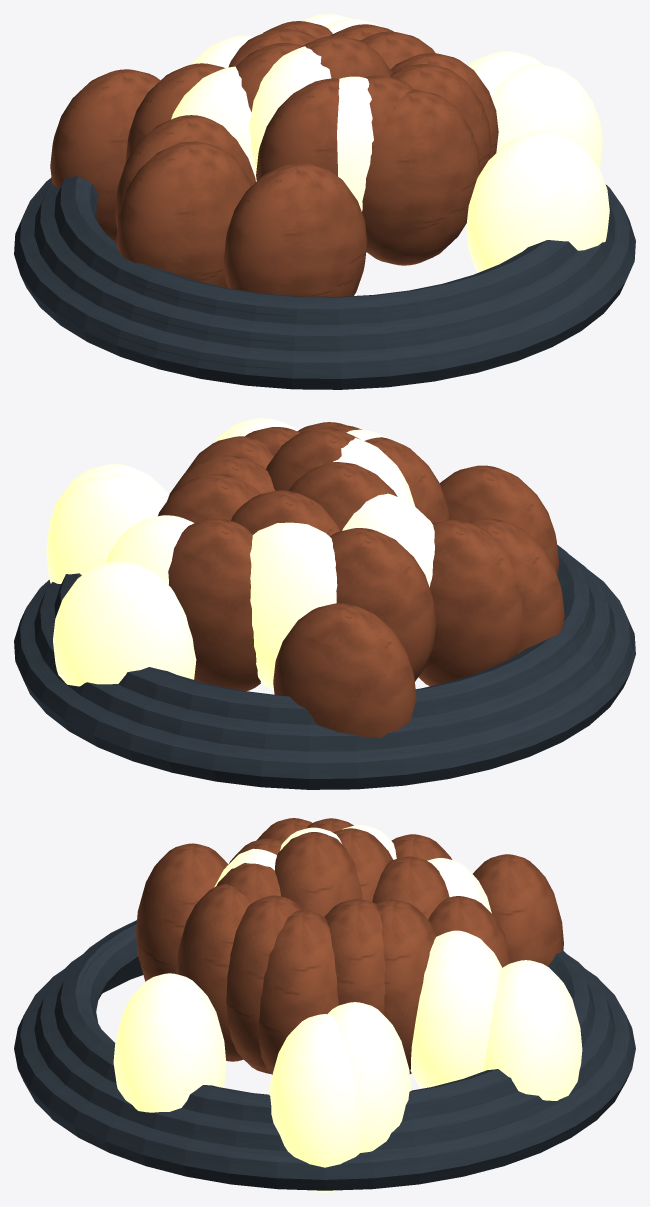
The model's file is TickNest.glb.
3 views of the same model, one above another, from view 1: azimuth 30°, elevation 25°; view 2: azimuth 150°, elevation 25°; view 3: azimuth 270°, elevation 25° (orthographic).
Parts seen in each view (by area): view 1: Coiled cable, Coiled cable.001, Coiled cable.002, Egg casing.020, Egg casing.010, Egg casing.018, Egg casing.004, Egg casing.014, Egg casing, Egg casing.007, Egg casing.015, Egg casing.017 (+14 smaller); view 2: Coiled cable, Coiled cable.001, Egg casing.014, Egg casing.024, Coiled cable.002, Egg casing.017, Egg casing.011, Egg casing.006, Egg casing.001, Egg casing.021, Egg casing.020, Egg casing.004 (+13 smaller); view 3: Coiled cable, Coiled cable.001, Coiled cable.002, Egg casing.018, Egg casing, Egg casing.003, Egg casing.024, Egg casing.013, Egg casing.021, Egg casing.020, Egg casing.014, Egg casing.005 (+12 smaller).
Boxes of the visible parts, x1,y1,x2,y2 form: Coiled cable: (14,177,635,389); Coiled cable.001: (34,182,615,351); Coiled cable.002: (54,176,577,324); Egg casing.020: (223,162,367,296); Egg casing.010: (362,89,480,265); Egg casing.018: (466,131,609,272); Egg casing.004: (116,141,252,288); Egg casing.014: (50,69,160,242); Egg casing: (491,64,602,168); Egg casing.007: (256,78,339,181); Egg casing.015: (337,76,373,211); Egg casing.017: (115,115,255,229); Coiled cable: (14,569,635,789); Coiled cable.001: (34,554,615,751); Egg casing.014: (273,603,416,737); Egg casing.024: (53,561,196,686); Coiled cable.002: (54,545,595,724); Egg casing.017: (418,519,523,686); Egg casing.011: (168,519,260,691); Egg casing.006: (250,522,337,689); Egg casing.001: (330,528,435,681); Egg casing.021: (46,473,166,583); Egg casing.020: (440,465,558,575); Egg casing.004: (468,518,564,654); Coiled cable: (14,969,635,1190); Coiled cable.001: (34,954,615,1151); Coiled cable.002: (54,920,595,1123); Egg casing.018: (113,973,226,1112); Egg casing: (269,1014,360,1192); Egg casing.003: (410,930,502,1088); Egg casing.024: (483,960,582,1100); Egg casing.013: (258,910,338,1074); Egg casing.021: (327,1002,411,1152); Egg casing.020: (136,843,228,981); Egg casing.014: (473,854,563,966); Egg casing.005: (226,895,303,1073).
Bounding box in the file's own units: 1.55 × 0.6851 × 1.54.
3 materials, 3 textured.
